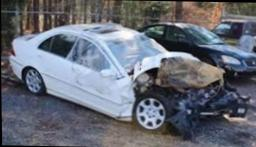Bonnet: (135, 50, 226, 88)
Bumper: (168, 78, 252, 142)
Door: (70, 35, 128, 118)
Windshield: (106, 34, 172, 70)
